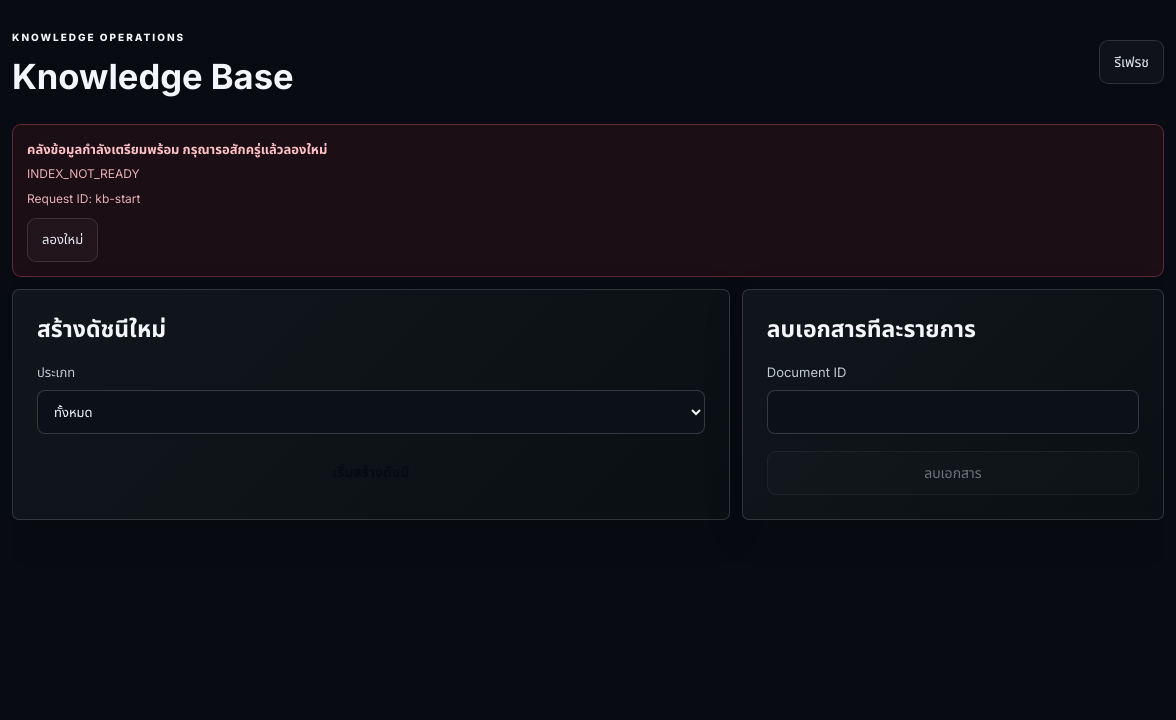
Test: shows index startup as retryable failure and recovers KB stats
The image size is (1176, 720).
Expected: the message shows "คลังข้อมูลกำลังเตรียมพร้อม", [27,141,327,157]
Click the button "ลองใหม่".
click(63, 240)  # box [27,218,98,262]
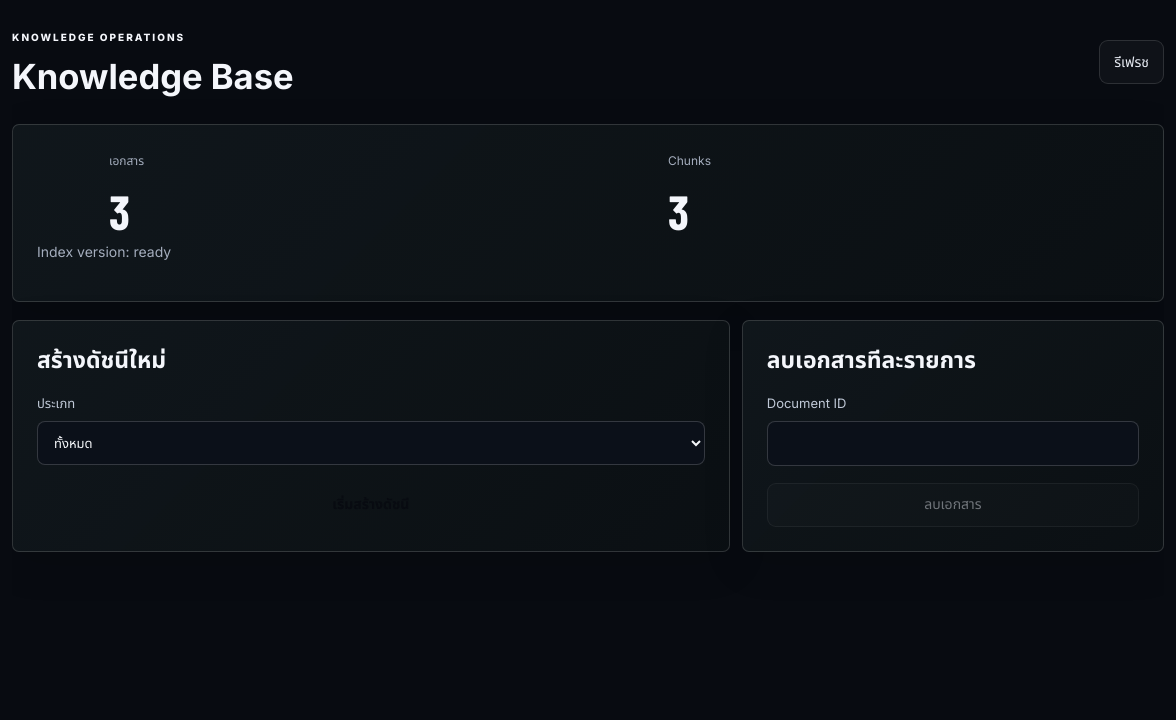
Now the text "Index version: ready" is shown, box [37,243,171,260]
Now the message is gone
